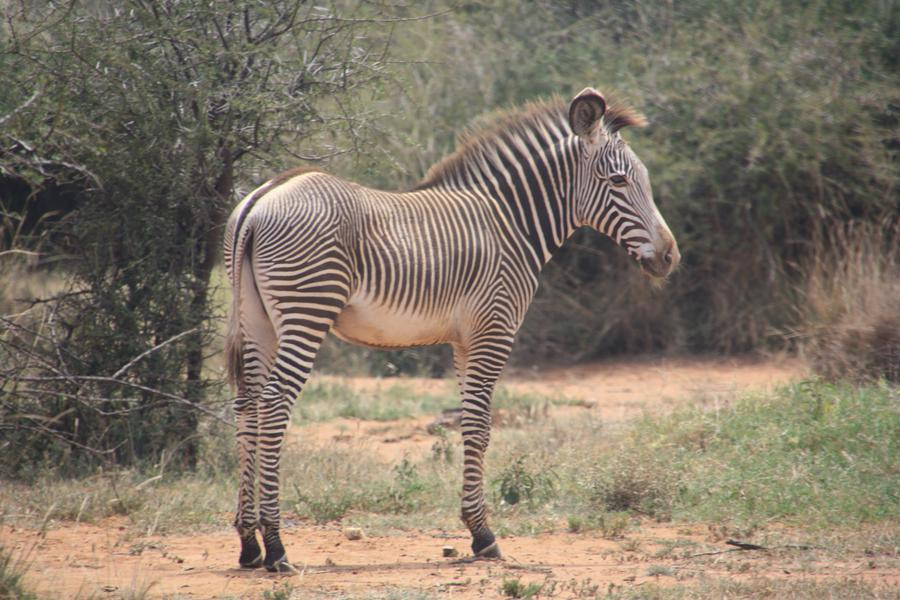zebra_grevys: (222, 144, 519, 347)
